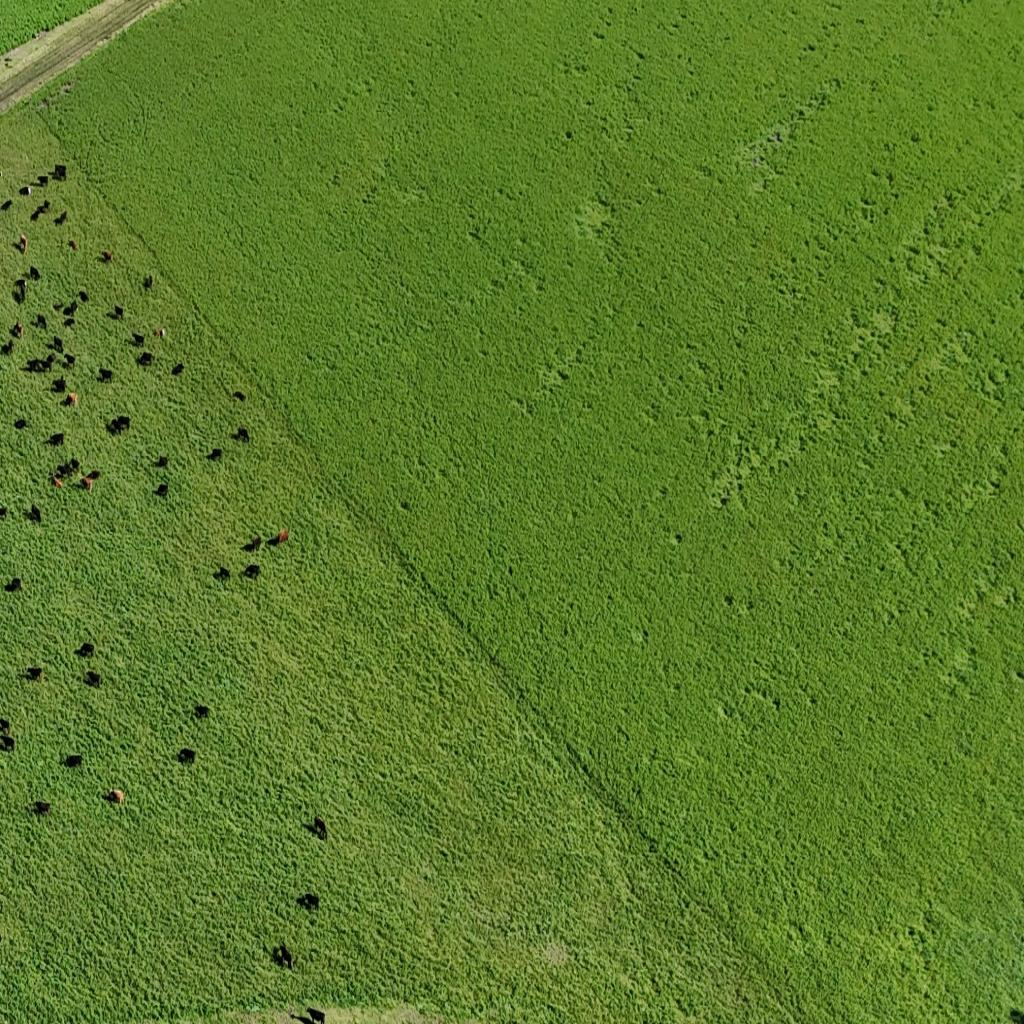cow: (272, 944, 293, 970), (312, 815, 328, 842), (298, 892, 319, 912), (30, 201, 50, 222), (56, 461, 78, 479), (243, 536, 262, 553), (26, 504, 42, 524), (307, 1007, 325, 1024), (107, 788, 124, 806), (178, 748, 196, 764), (26, 666, 44, 682), (33, 800, 51, 816), (40, 354, 56, 372), (85, 670, 101, 687), (243, 563, 260, 579), (0, 734, 16, 751), (78, 642, 95, 658), (232, 426, 249, 442), (4, 577, 22, 592), (65, 754, 84, 768), (13, 284, 26, 304), (137, 352, 153, 368), (214, 565, 230, 581), (51, 377, 67, 393), (79, 476, 95, 492), (24, 359, 42, 373), (98, 367, 113, 383), (194, 704, 210, 719), (115, 414, 130, 430), (48, 432, 64, 447), (52, 164, 66, 181), (64, 391, 78, 408), (56, 301, 73, 315), (155, 454, 170, 469), (206, 447, 222, 461), (0, 340, 14, 356), (62, 308, 76, 324), (0, 717, 12, 735), (155, 483, 169, 498), (16, 236, 27, 255), (55, 210, 68, 226), (12, 322, 23, 340), (131, 332, 145, 346), (37, 173, 52, 186), (276, 529, 289, 544), (36, 314, 48, 330), (84, 470, 100, 482), (171, 362, 184, 376), (267, 531, 279, 546), (53, 336, 64, 352), (0, 199, 13, 212), (13, 418, 27, 430), (112, 304, 124, 318), (64, 354, 76, 368), (52, 474, 63, 489), (30, 265, 40, 281), (143, 274, 153, 290), (233, 390, 246, 402), (101, 250, 114, 262), (1014, 1007, 1023, 1024), (38, 101, 49, 114), (106, 419, 116, 433), (78, 290, 89, 302), (154, 327, 165, 339), (19, 186, 32, 196), (68, 239, 78, 251), (41, 199, 51, 211), (0, 506, 8, 519)
